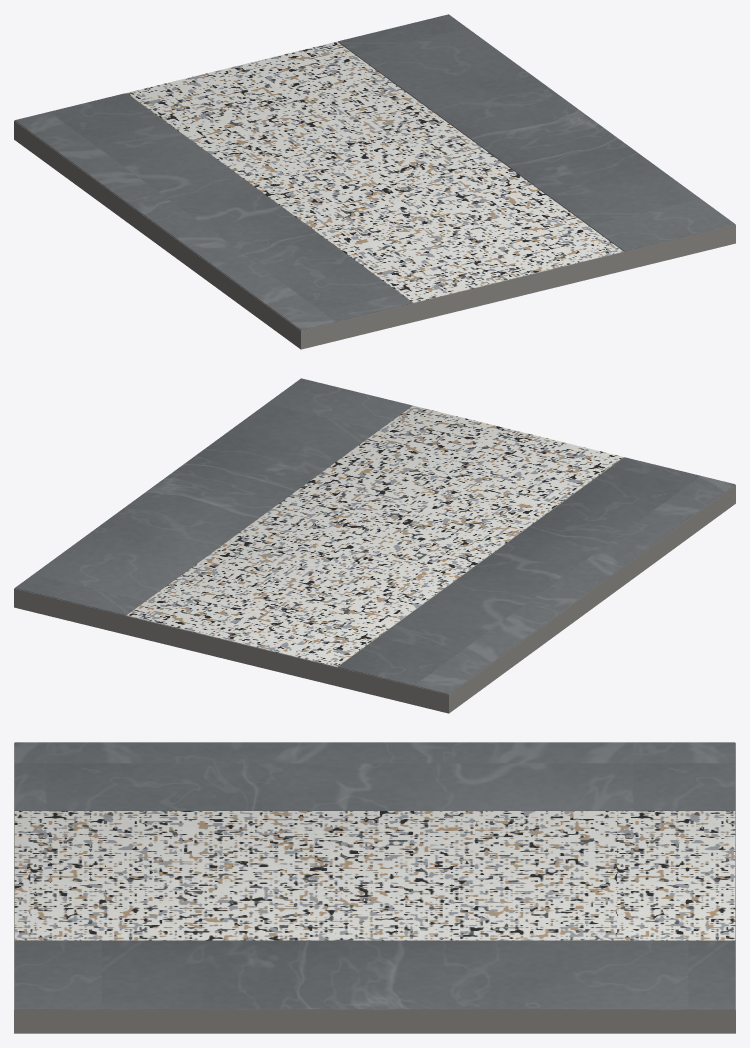
File: floor_KA-DB032.glb
The picture shows the model from 3 angles, top to bottom: view 1: azimuth 30°, elevation 25°; view 2: azimuth 150°, elevation 25°; view 3: azimuth 270°, elevation 25°; orthographic projection. The views are drawn at different scales.
Visible parts, largest first — view 1: Floor; view 2: Floor; view 3: Floor.
Part boxes in pixels (x1=…): Floor: x1=14, y1=14, x2=735, y2=349; Floor: x1=14, y1=378, x2=735, y2=713; Floor: x1=14, y1=742, x2=735, y2=1033.
Bounding box in the file's own units: 1.4 × 0.06 × 1.6.
3 materials, 2 textured.
